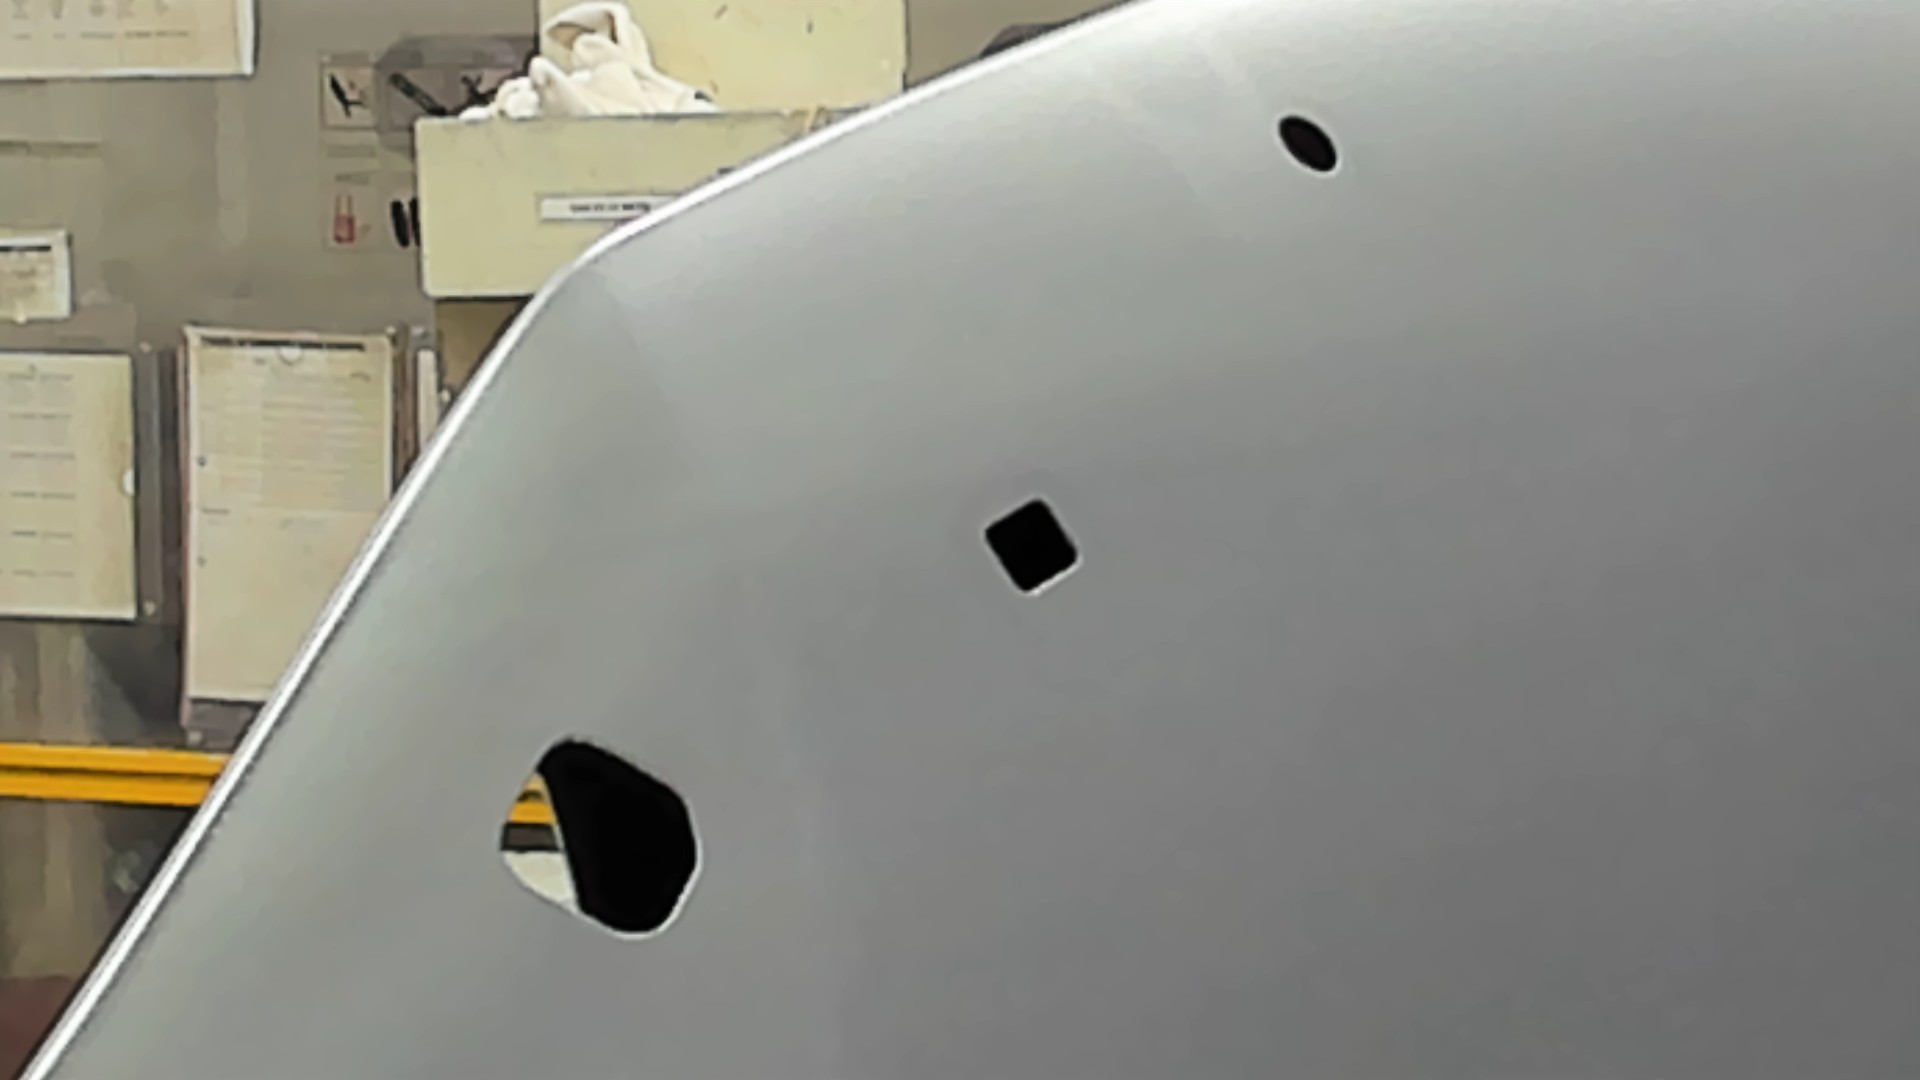chico: (1273, 109, 1344, 175)
grande: (497, 732, 705, 943)
mediano: (982, 497, 1085, 600)
